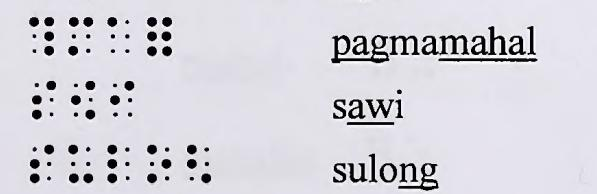a: (107, 16, 131, 55)
aw: (71, 80, 96, 120)
i: (110, 80, 134, 118)
l: (107, 144, 130, 183)
m: (67, 16, 92, 56)
mahal: (147, 17, 172, 56)
ng: (186, 144, 210, 184)
o: (146, 144, 173, 183)
pag: (30, 17, 55, 56)
s: (29, 145, 54, 183), (31, 80, 55, 119)
u: (67, 144, 94, 183)
